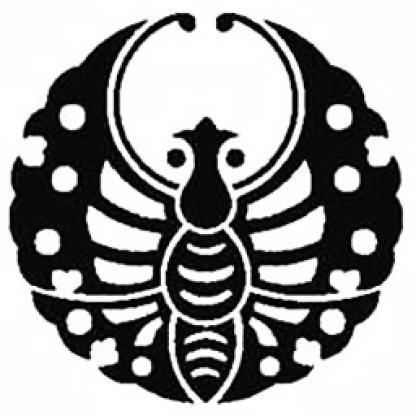kamon: (6, 12, 404, 404)
